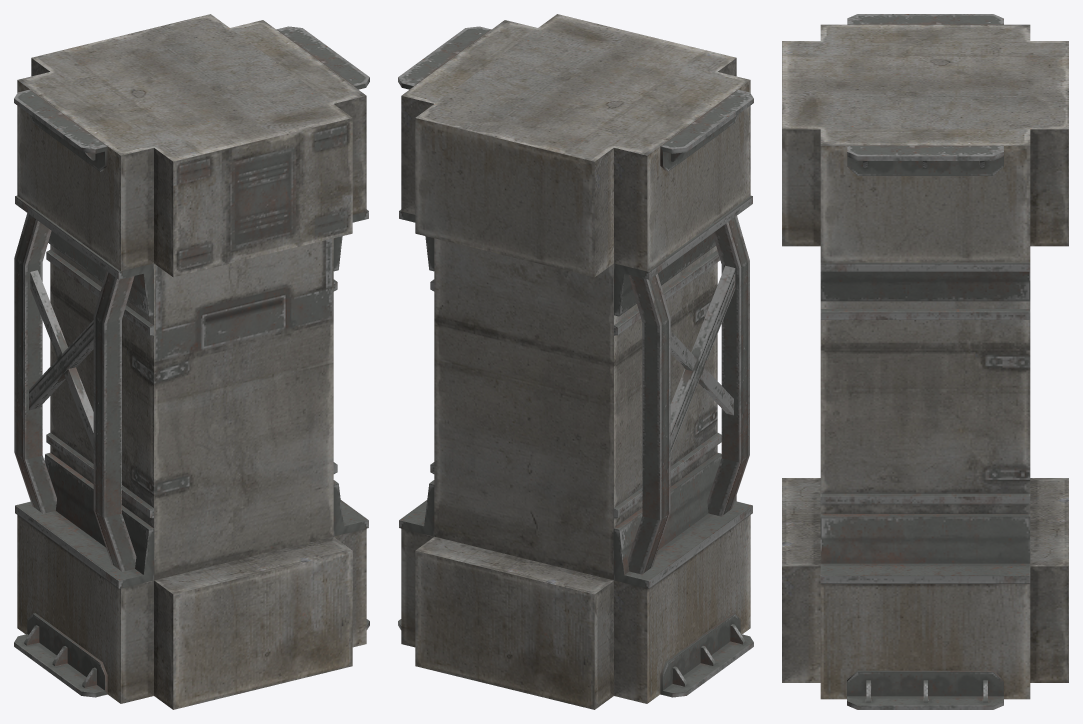
Rendered from CP_Column_Concrete_A_07.fbx.
3 views of the same model, side by side, from view 1: azimuth 30°, elevation 25°; view 2: azimuth 150°, elevation 25°; view 3: azimuth 270°, elevation 25° (orthographic).
Visible parts, largest first — view 1: CP_Column_Concrete_A_07_LOD0; view 2: CP_Column_Concrete_A_07_LOD0; view 3: CP_Column_Concrete_A_07_LOD0.
Part boxes in pixels (box(x1,y1,x2,y2)): CP_Column_Concrete_A_07_LOD0: box(14, 14, 369, 709); CP_Column_Concrete_A_07_LOD0: box(398, 14, 753, 709); CP_Column_Concrete_A_07_LOD0: box(782, 14, 1068, 709).
Size of what is drawn, in the model's own units: 110 by 200 by 93.9.
